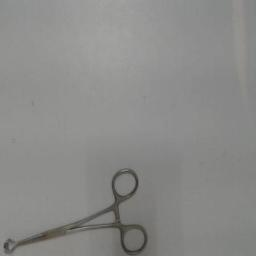Babcock Tissue Forceps: (1, 164, 149, 256)
